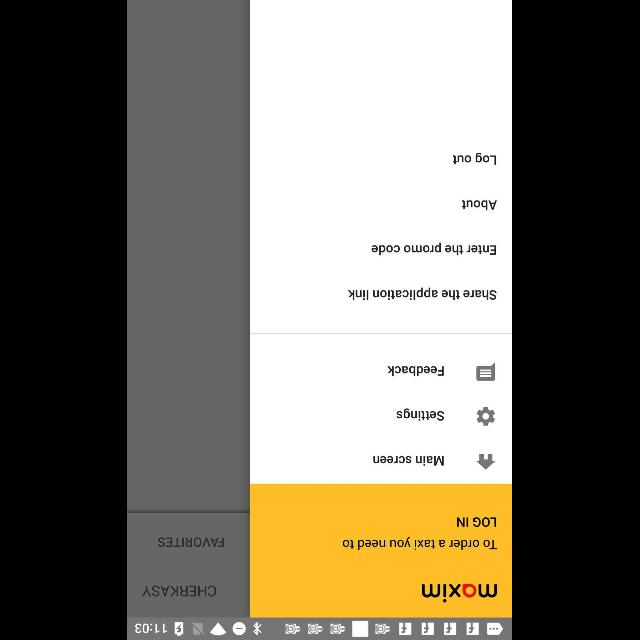icon: (478, 406, 497, 426), (476, 362, 496, 381), (477, 453, 495, 469)
image: (422, 584, 498, 602)
panel: (251, 0, 513, 618)
text: (342, 536, 498, 550), (348, 287, 498, 301), (372, 242, 498, 255), (143, 586, 217, 596), (373, 456, 445, 466), (397, 408, 445, 422), (159, 537, 225, 547), (453, 152, 497, 166), (388, 366, 444, 376), (457, 516, 497, 528), (462, 200, 498, 210)
uppertaskbar: (128, 617, 512, 639)
